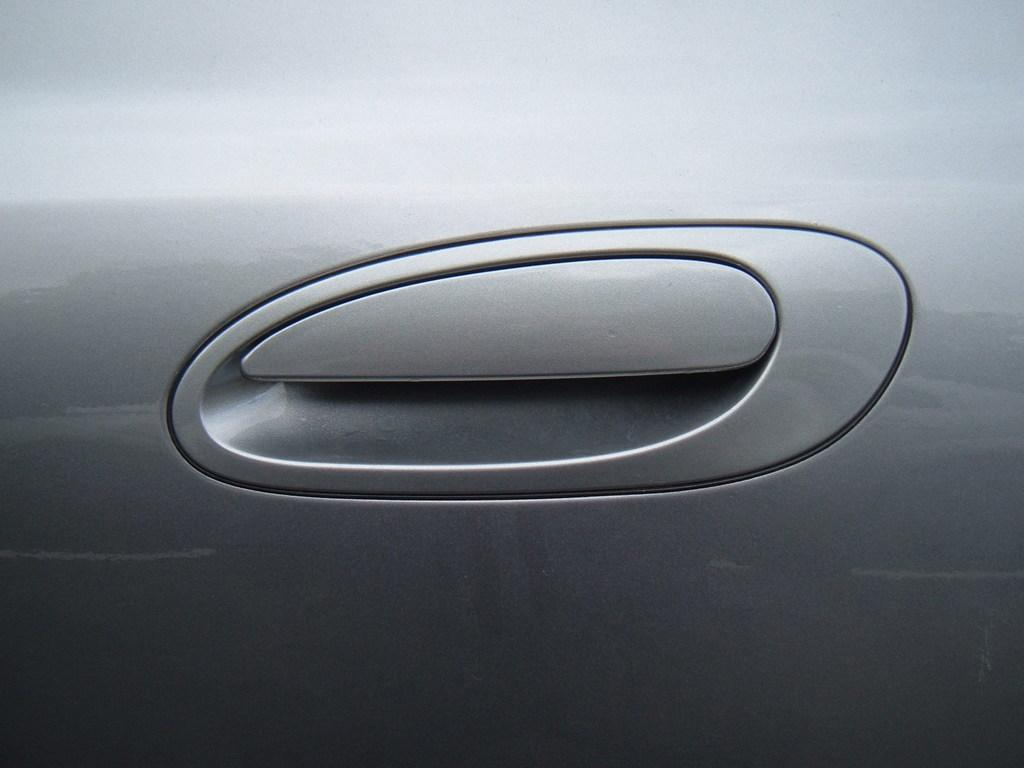handle: (242, 228, 778, 410)
